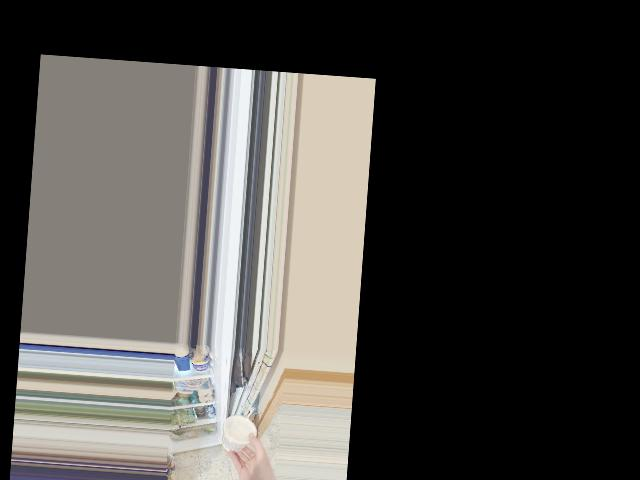cotage: (223, 414, 254, 451)
